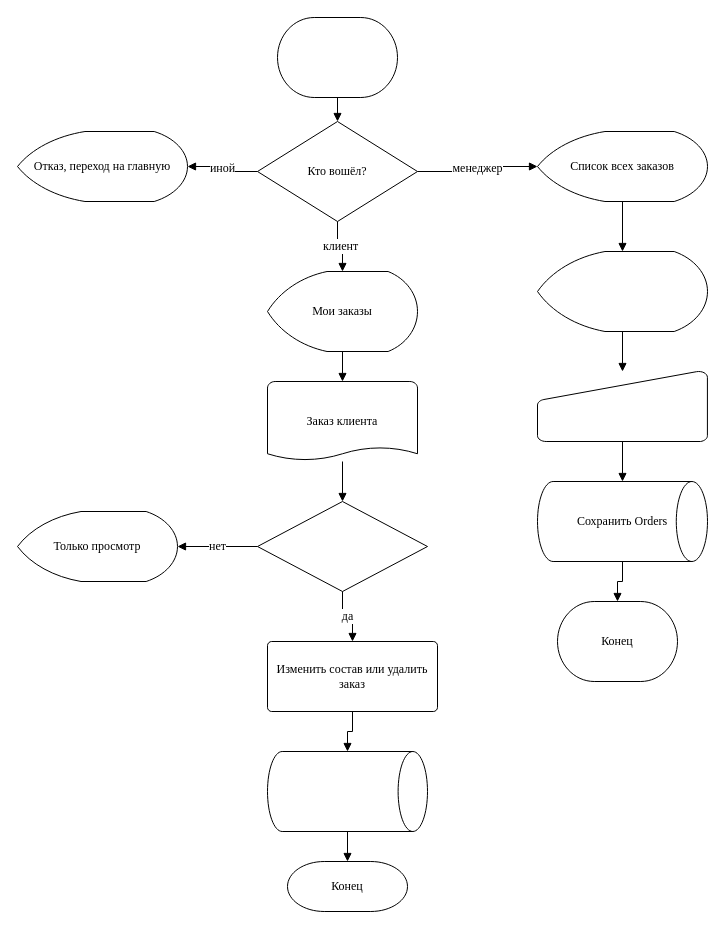
Image size: 725x929. Some labels were removed from this diagram. The centre of each missing label's shape, as x and y in pixels:
"Запись в Orders" goes at point 347,791.
"Карточка заказа" goes at point 622,291.
"Начало" goes at point 337,57.
"Новый статус заказа" goes at point 622,406.
"Статус «Новый»?" goes at point 342,546.
